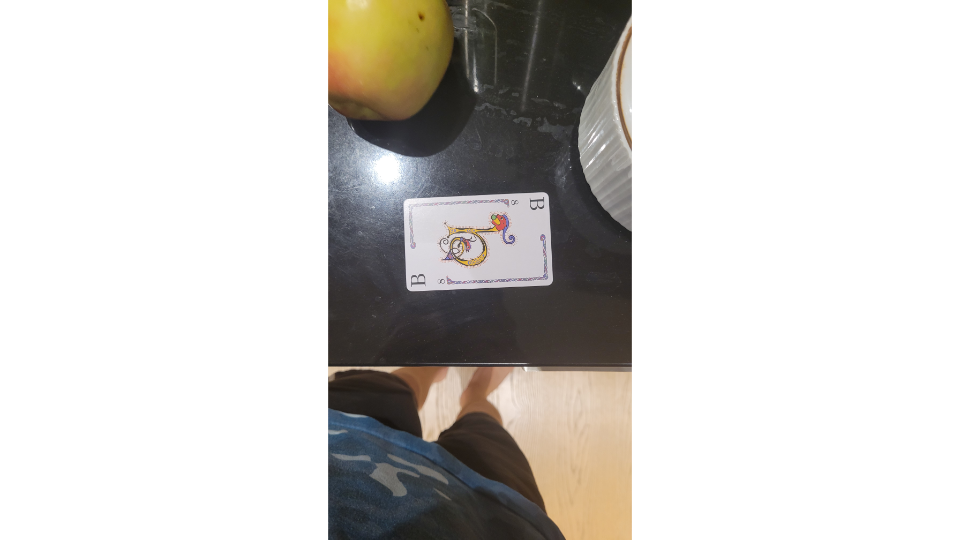B: (398, 189, 558, 296)
